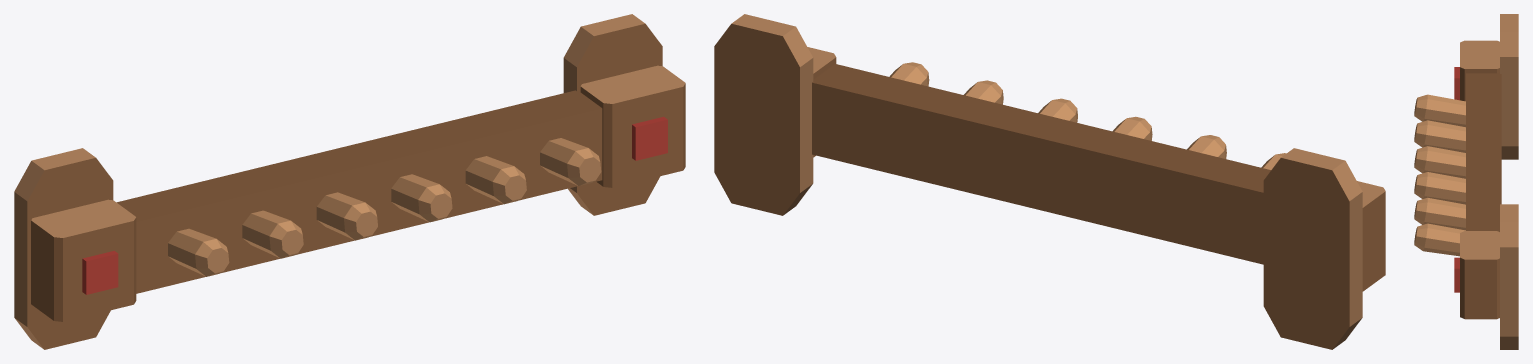
The model's file is FMS_Workshop_FUR_04.fbx.
3 views of the same model, side by side, from view 1: azimuth 30°, elevation 25°; view 2: azimuth 150°, elevation 25°; view 3: azimuth 270°, elevation 25° (orthographic). The views are drawn at different scales.
Parts seen in each view (by area): view 1: FMS_Workshop_FUR_04_Body; view 2: FMS_Workshop_FUR_04_Body; view 3: FMS_Workshop_FUR_04_Body.
Boxes of the visible parts, x1,y1,x2,y2 form: FMS_Workshop_FUR_04_Body: (14, 14, 685, 349); FMS_Workshop_FUR_04_Body: (714, 14, 1385, 349); FMS_Workshop_FUR_04_Body: (1414, 14, 1518, 349).
Bounding box in the file's own units: 1.11 × 0.3 × 0.2225.
